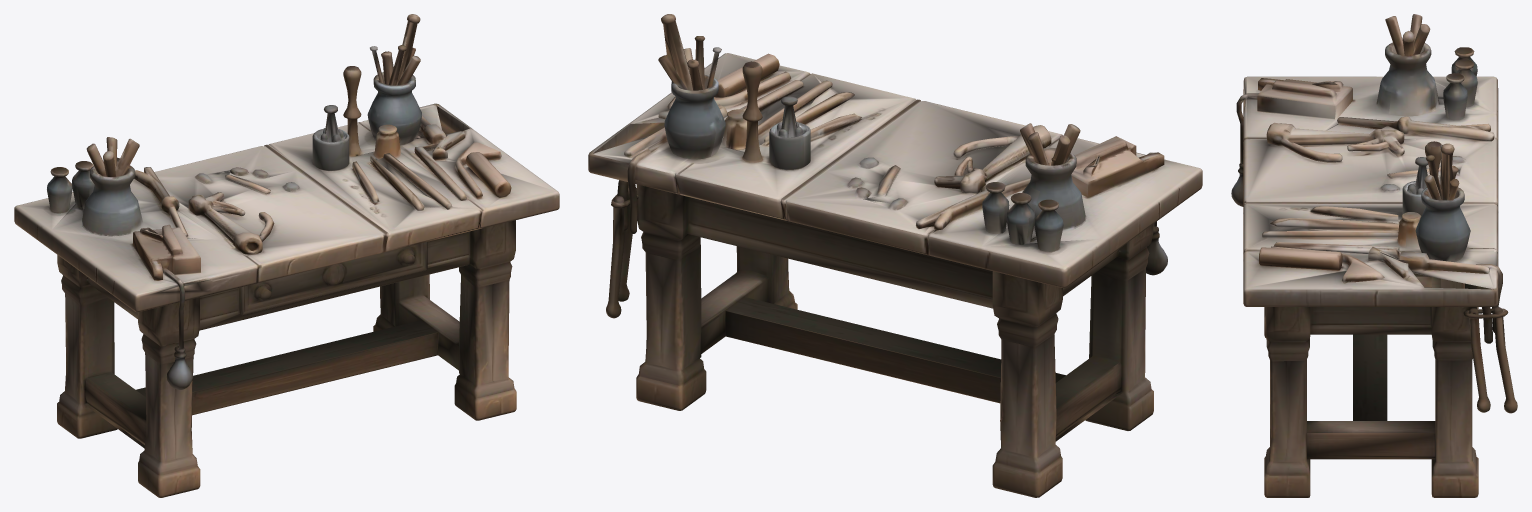
Rendered from Furniture__ancient_workshop_table_f07220b5_v4.cluster.glb.
3 renders of one model, left to right at view 1: azimuth 30°, elevation 25°; view 2: azimuth 150°, elevation 25°; view 3: azimuth 270°, elevation 25°, orthographic. The views are drawn at different scales.
Parts seen in each view (by area): view 1: mesh_input; view 2: mesh_input; view 3: mesh_input.
Part boxes in pixels (box(x1,y1,x2,y2)): mesh_input: box(14, 14, 559, 497); mesh_input: box(588, 14, 1202, 497); mesh_input: box(1231, 14, 1517, 497).
Bounding box in the file's own units: 1.9 × 1.44 × 1.07.
Materials: 1 (1 with a texture image).
